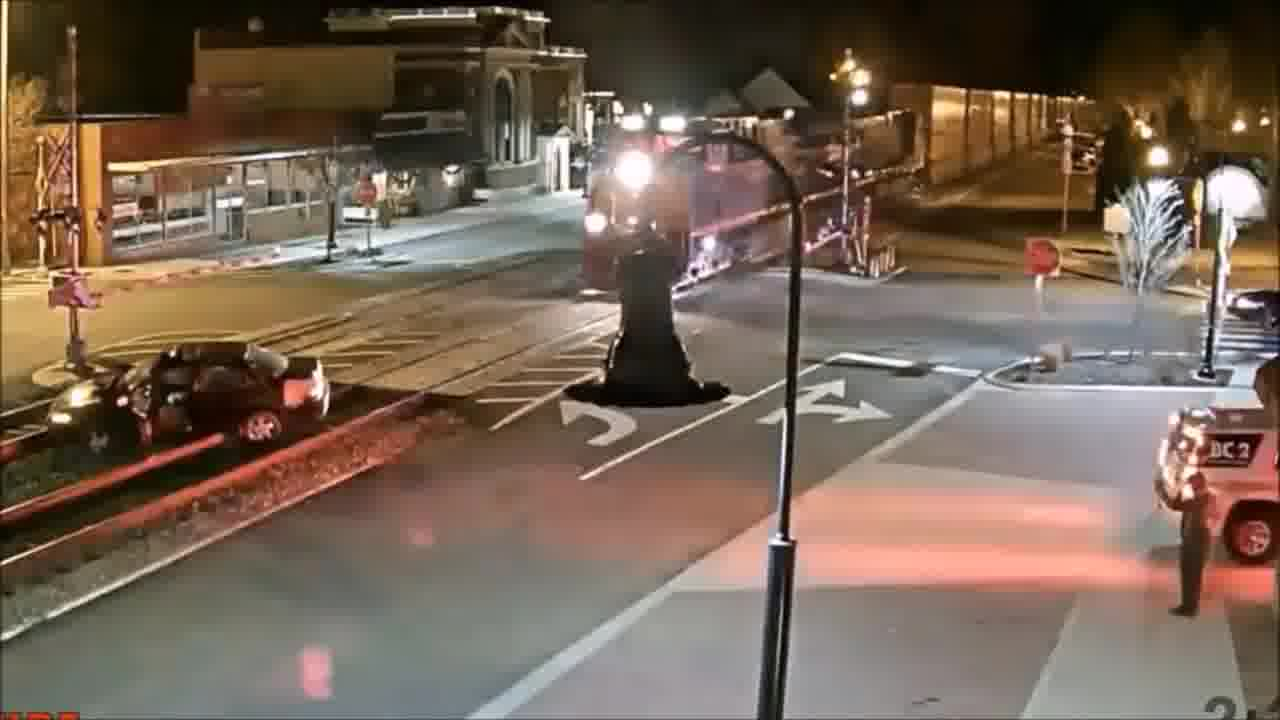crossing railway track: (36, 336, 342, 452)
